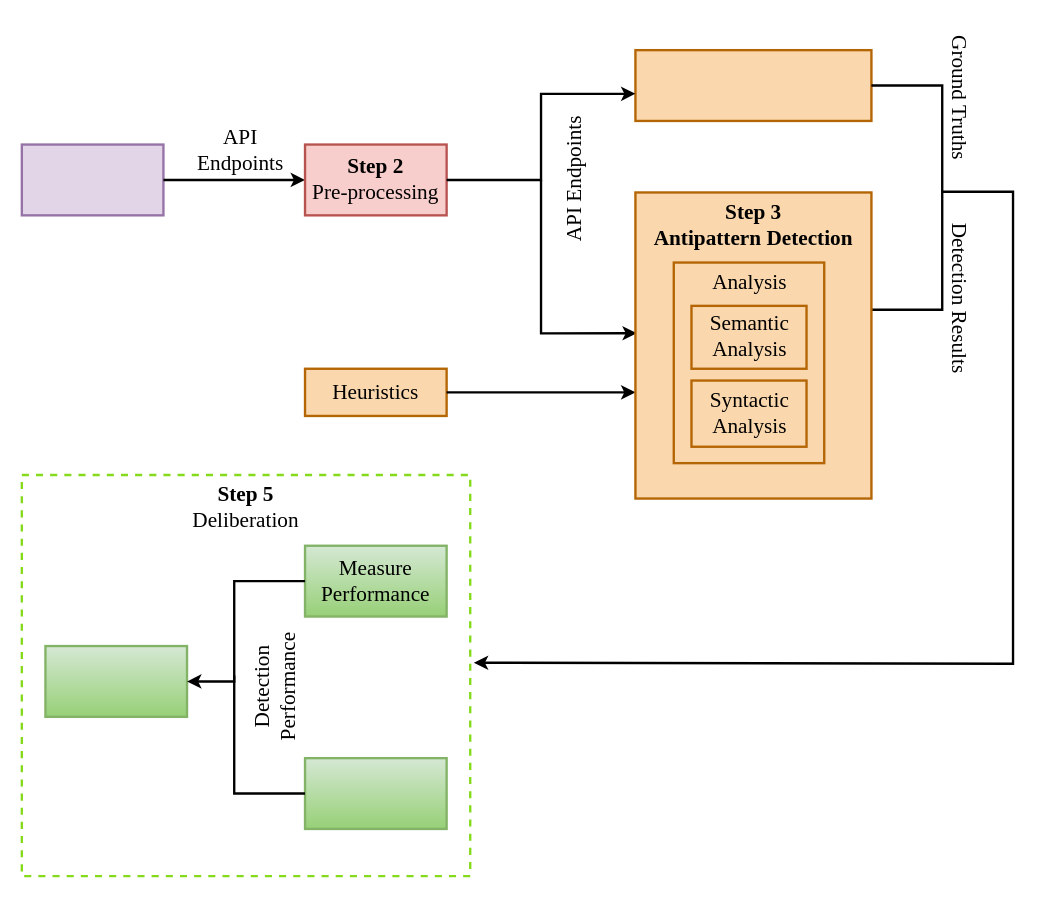
Image size: 1043x897. Some labels were removed from this diagram. The centre of each missing label's shape, as x and y in pixels:
Answer Research Questions: (x=116, y=680)
Step 1 Data Collection: (x=92, y=179)
Step 4 Ground Truth Definition: (x=753, y=85)
Synthesis of Findings: (x=375, y=793)
